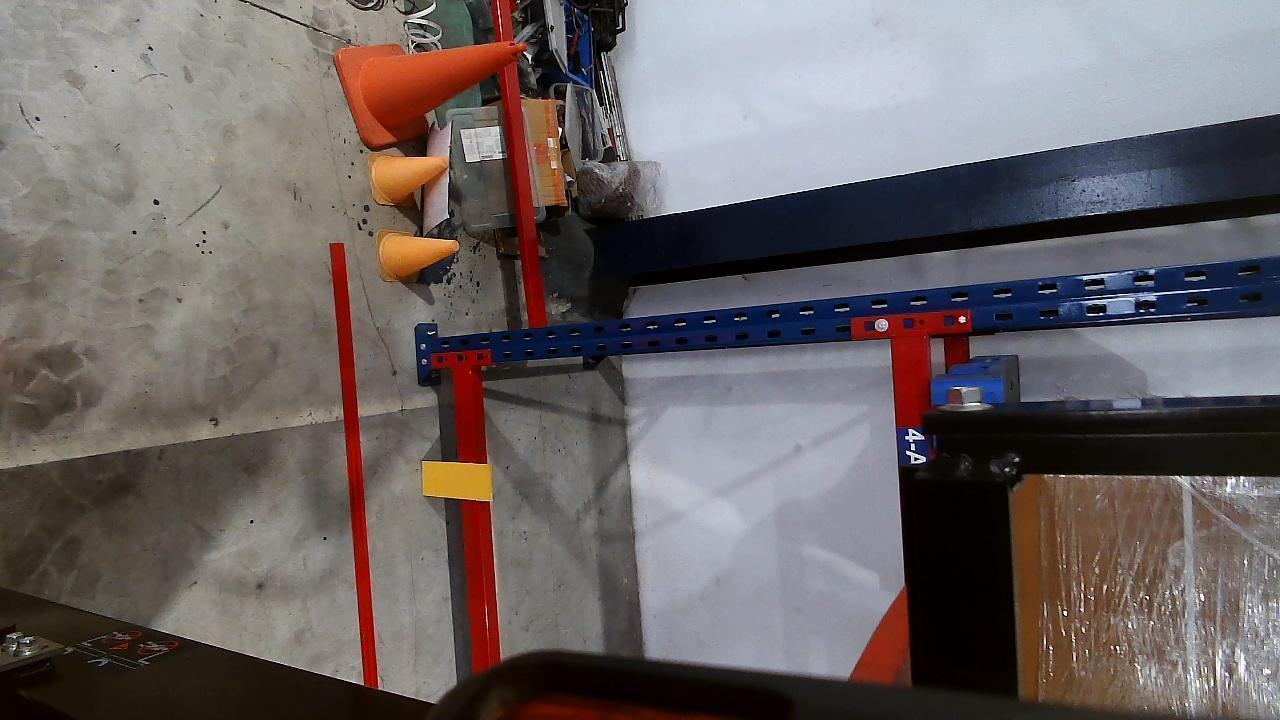red_line: (329, 241, 378, 685)
